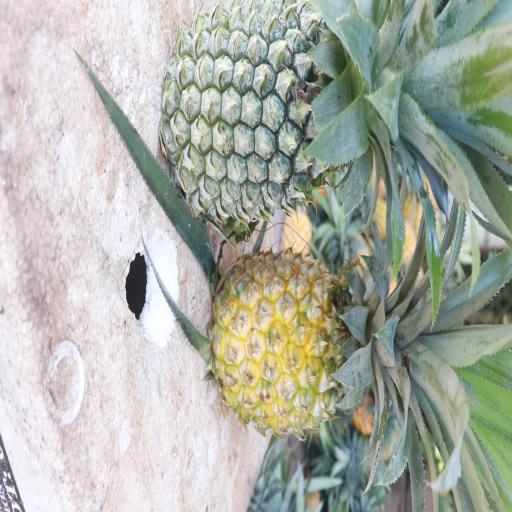Pineapple - v8 v1: (216, 241, 480, 499)
